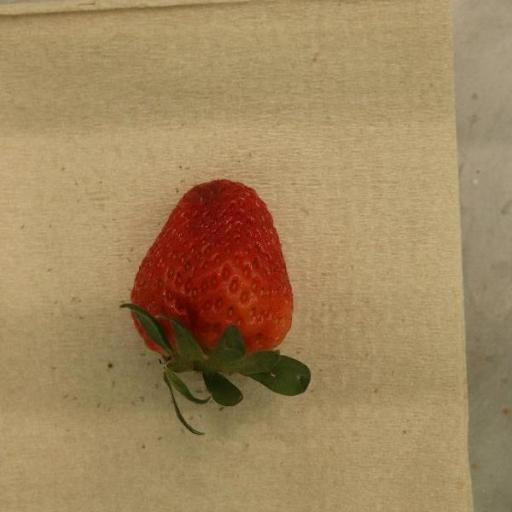Strawberry: (120, 180, 311, 408)
